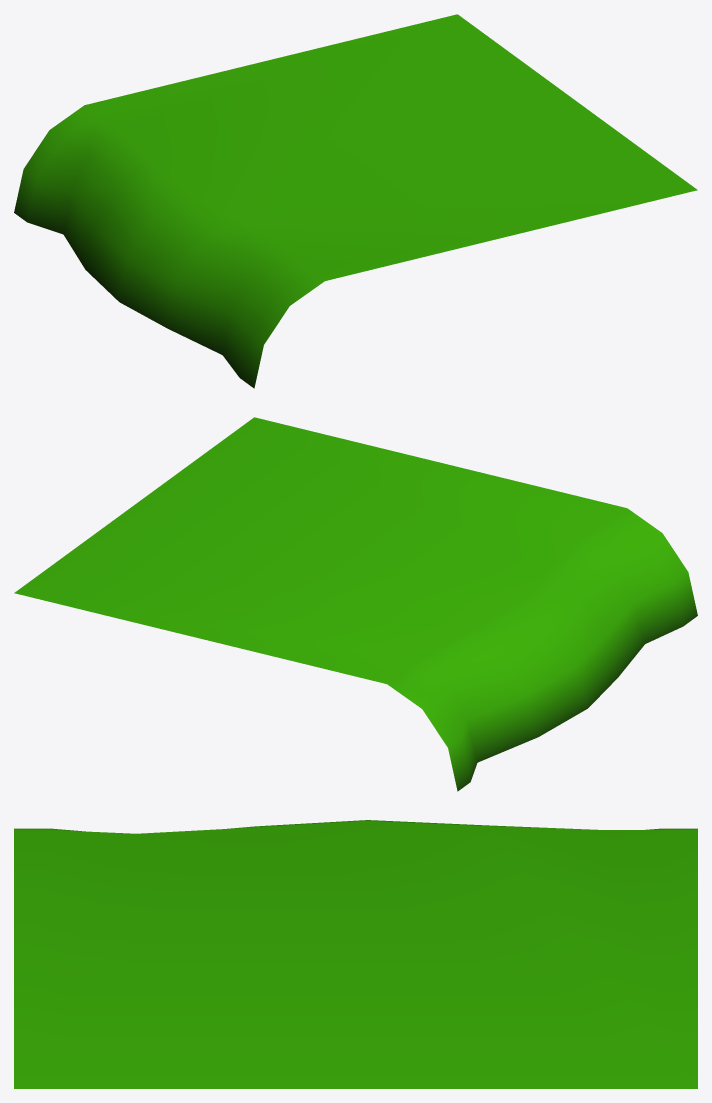
File: Surface_RoadUp01.fbx
3 renders of one model, top to bottom at view 1: azimuth 30°, elevation 25°; view 2: azimuth 150°, elevation 25°; view 3: azimuth 270°, elevation 25°, orthographic. The views are drawn at different scales.
Visible parts, largest first — view 1: Surface_RoadUp01; view 2: Surface_RoadUp01; view 3: Surface_RoadUp01.
Boxes of the visible parts, box(x1,y1,x2,y2) form: Surface_RoadUp01: box(14, 14, 697, 388); Surface_RoadUp01: box(14, 417, 697, 791); Surface_RoadUp01: box(14, 820, 697, 1088).
Size of the model in its own units: 2192 by 415 by 2000.
